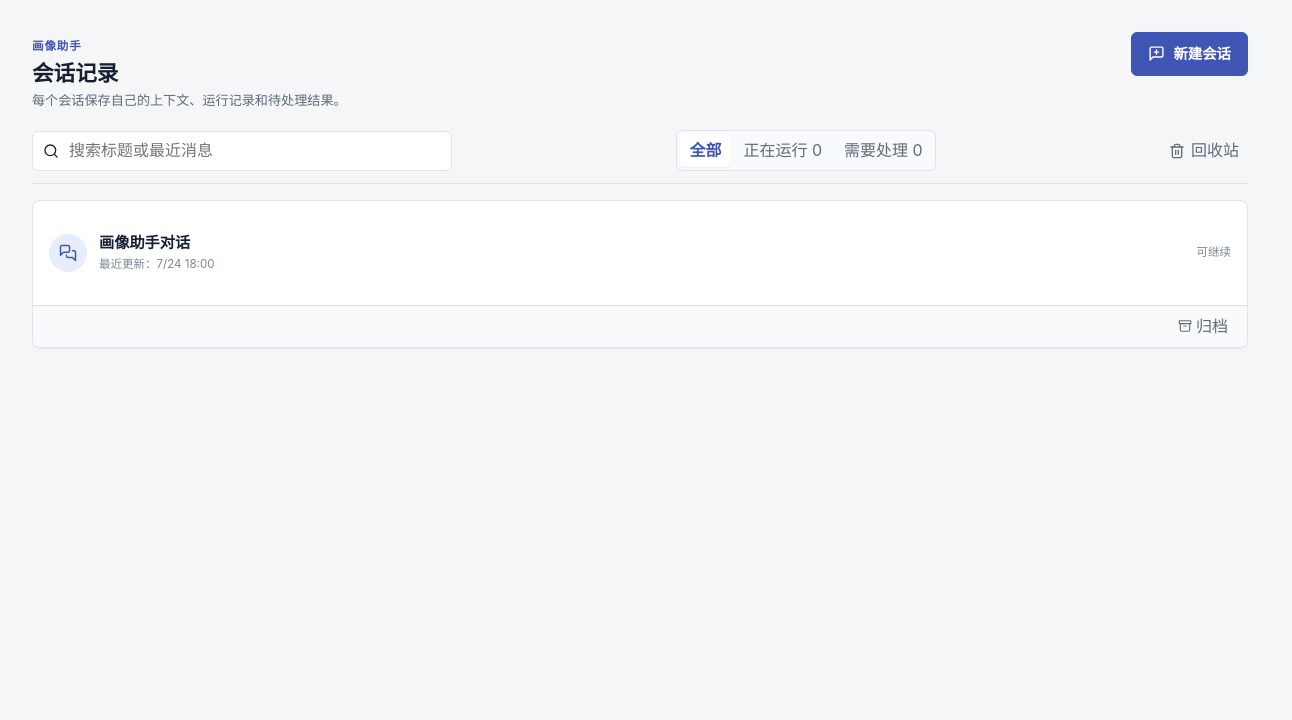
Test: ProfileAgentWorkspace › shows the persisted execution duration
The width and height of the screenshot is (1292, 720).
Click the button "画像助手对话 最近更新：7/24 18:00 可继续" at {"x": 68, "y": 253}, box left=33, top=201, right=1247, bottom=305
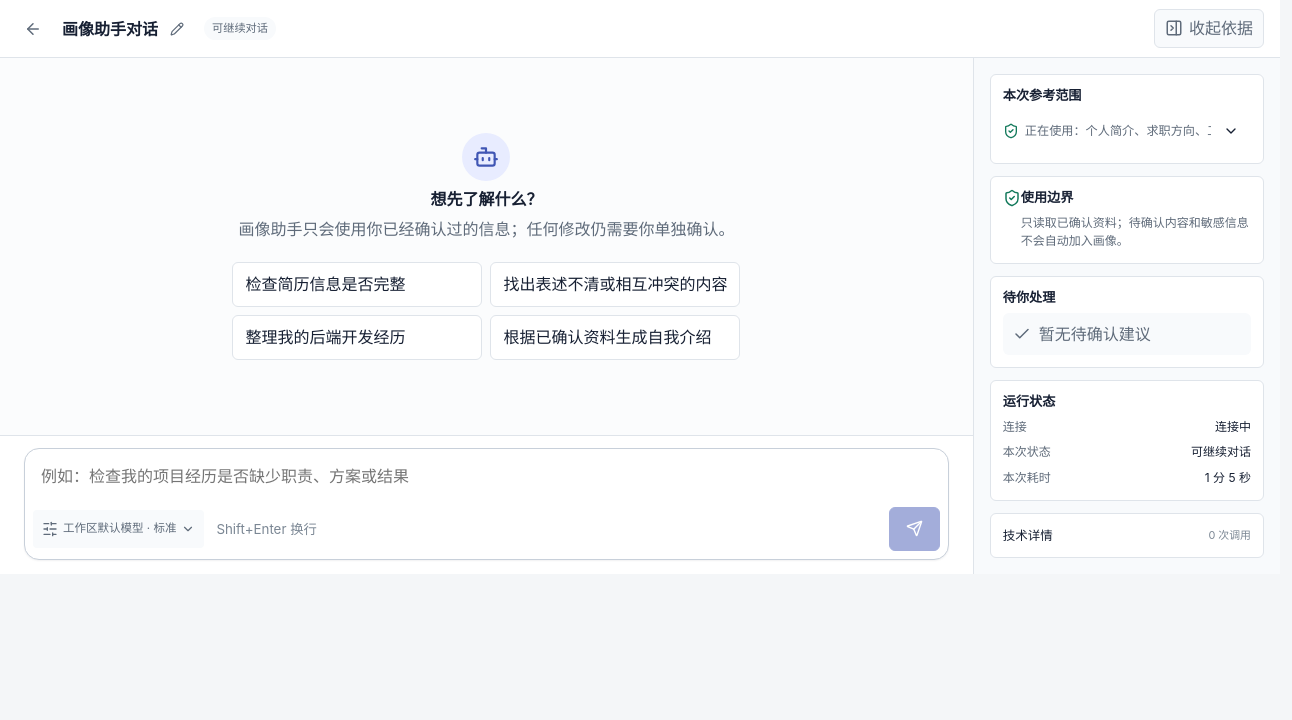
expect the text "1 分 5 秒" is shown: met, box left=1205, top=469, right=1251, bottom=488
